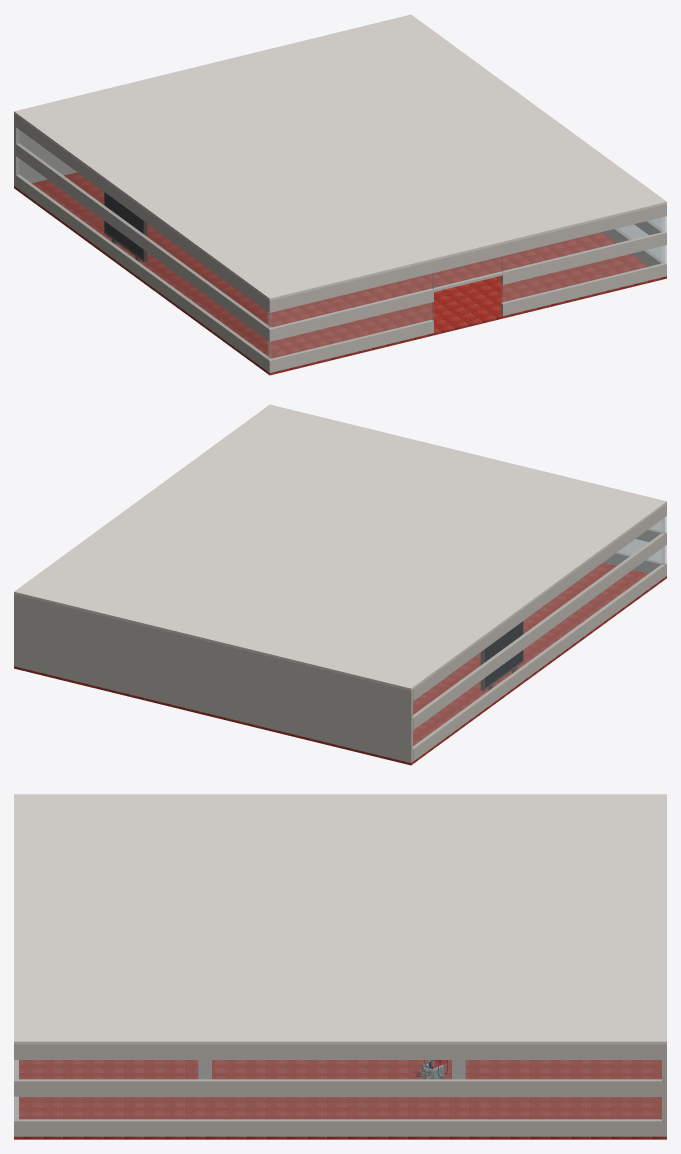
Rendered from inner-1.glb.
3 renders of one model, top to bottom at view 1: azimuth 30°, elevation 25°; view 2: azimuth 150°, elevation 25°; view 3: azimuth 270°, elevation 25°, orthographic. The views are drawn at different scales.
Visible parts, largest first — view 1: IN_ceiling, IN_floor, IN_glass_w_1, IN_glass_w_3, IN_wall_w_0, IN_wall_w_2, IN_glass_se_1, IN_glass_sw_1, IN_wall_w_4, IN_glass_sw_3, IN_glass_se_3, IN_wall_sw_2 (+10 smaller); view 2: IN_ceiling, IN_wall_n, IN_floor, IN_glass_w_1, IN_glass_w_3, IN_wall_w_2, IN_wall_w_0, IN_wall_w_4, EX_display; view 3: IN_ceiling, IN_floor, IN_glass_e_1, IN_glass_e_3, IN_wall_e_0, IN_wall_e_2, IN_wall_e_4.
Part boxes in pixels (box(x1,y1,x2,y2)): IN_ceiling: box(14, 14, 666, 300); IN_floor: box(14, 172, 666, 375); IN_glass_w_1: box(16, 156, 270, 358); IN_glass_w_3: box(16, 128, 270, 327); IN_wall_w_0: box(16, 174, 270, 371); IN_wall_w_2: box(16, 143, 270, 339); IN_glass_se_1: box(501, 245, 666, 303); IN_glass_sw_1: box(268, 302, 433, 360); IN_wall_w_4: box(16, 115, 267, 310); IN_glass_sw_3: box(268, 273, 433, 328); IN_glass_se_3: box(501, 216, 666, 272); IN_wall_sw_2: box(267, 288, 433, 341); IN_ceiling: box(14, 404, 666, 690); IN_wall_n: box(14, 594, 412, 762); IN_floor: box(14, 562, 666, 765); IN_glass_w_1: box(413, 546, 664, 748); IN_glass_w_3: box(413, 518, 664, 717); IN_wall_w_2: box(413, 533, 664, 730); IN_wall_w_0: box(413, 564, 664, 761); IN_wall_w_4: box(413, 505, 664, 701); EX_display: box(480, 621, 523, 690); IN_ceiling: box(14, 794, 666, 1044); IN_floor: box(14, 1060, 666, 1139); IN_glass_e_1: box(19, 1097, 661, 1120); IN_glass_e_3: box(19, 1060, 661, 1080); IN_wall_e_0: box(19, 1119, 661, 1136); IN_wall_e_2: box(19, 1079, 661, 1096); IN_wall_e_4: box(19, 1044, 661, 1059).
Bounding box in the file's own units: 34.6 × 6.4 × 38.6.
Materials: 13 (8 with a texture image).
